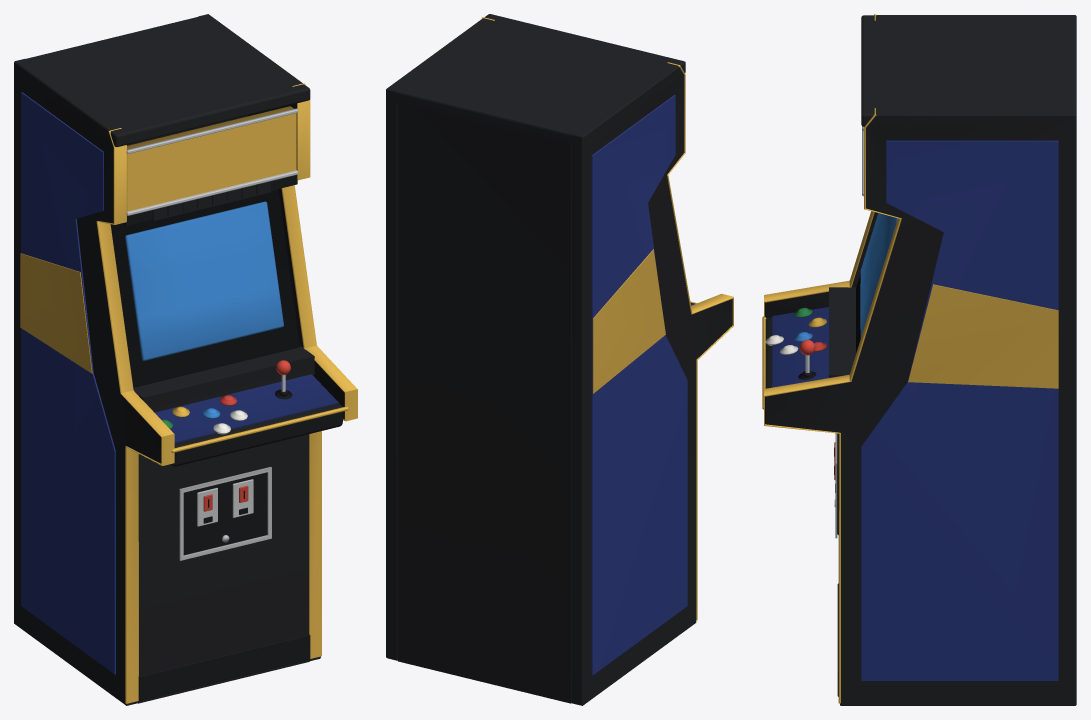
Rendered from arcadeCabinet.glb.
The picture shows the model from 3 angles, left to right: view 1: azimuth 30°, elevation 25°; view 2: azimuth 150°, elevation 25°; view 3: azimuth 270°, elevation 25°; orthographic projection. The views are drawn at different scales.
Visible parts, largest first — view 1: body; view 2: body; view 3: body.
Part boxes in pixels (box(x1,y1,x2,y2)): body: box(14, 14, 357, 705); body: box(386, 14, 733, 705); body: box(762, 14, 1076, 705).
Bounding box in the file's own units: 0.672 × 1.82 × 0.876.
